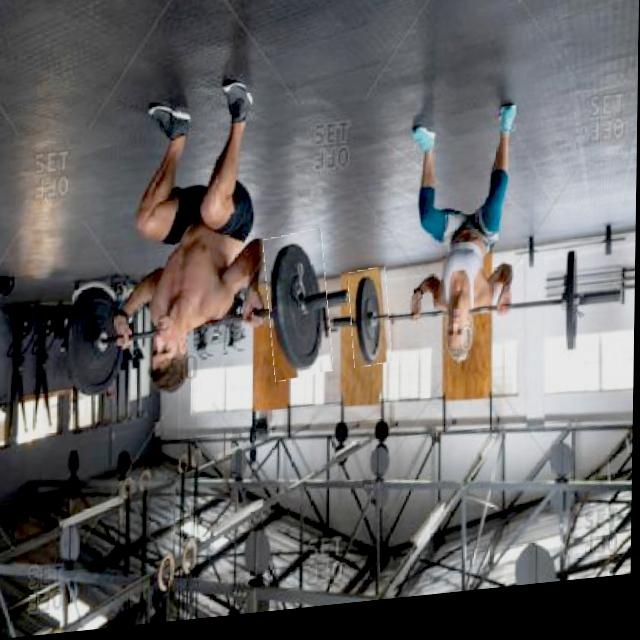barbell: (267, 237, 334, 388), (351, 276, 393, 377)
